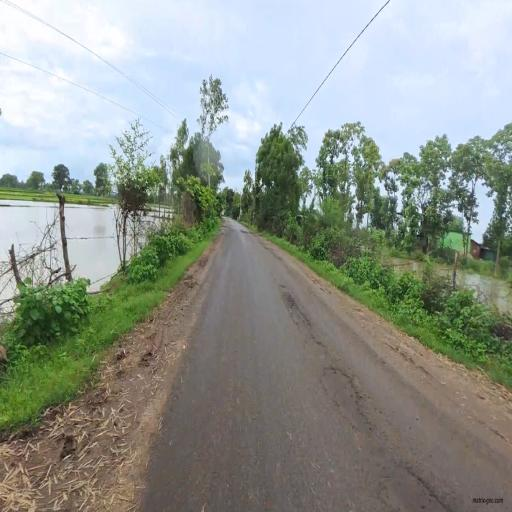ravelling: (264, 275, 480, 507)
